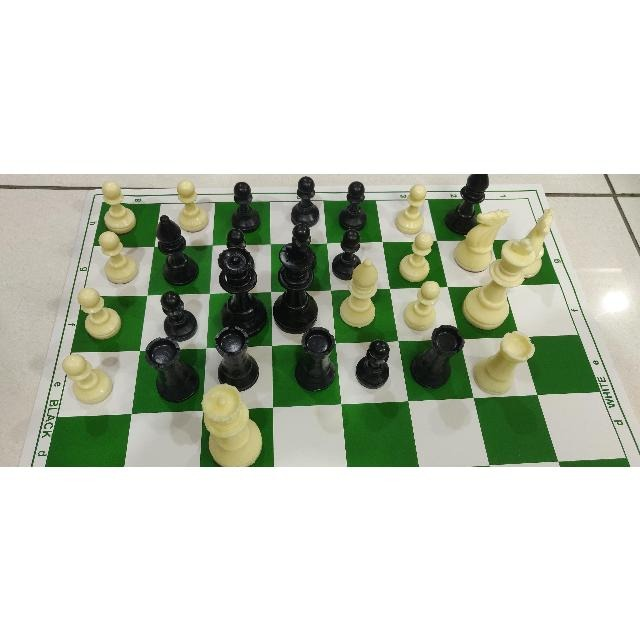black-bishop: (150, 210, 201, 285), (155, 213, 199, 285), (444, 174, 490, 234)
black-king: (271, 239, 318, 335)
black-pawn: (160, 289, 198, 341), (355, 337, 391, 389), (160, 289, 197, 339), (230, 180, 262, 233), (331, 226, 361, 279), (291, 174, 321, 226), (338, 179, 368, 229), (291, 221, 317, 270), (225, 226, 254, 269), (292, 222, 312, 246)
black-queen: (218, 246, 268, 336)
black-rook: (143, 336, 201, 401), (409, 322, 465, 388), (411, 323, 465, 389), (212, 324, 265, 391), (293, 327, 341, 389)
white-bishop: (339, 257, 378, 327)
white-king: (461, 236, 536, 327)
white-knight: (453, 206, 511, 271), (520, 208, 554, 278)
white-pawn: (61, 352, 115, 404), (75, 286, 126, 338), (98, 230, 140, 284), (402, 279, 441, 331), (101, 179, 137, 233), (403, 280, 441, 330), (399, 230, 433, 282), (177, 179, 209, 231), (395, 182, 427, 233)
white-queen: (198, 380, 266, 463), (201, 382, 263, 465)
white-rook: (472, 330, 536, 394)
